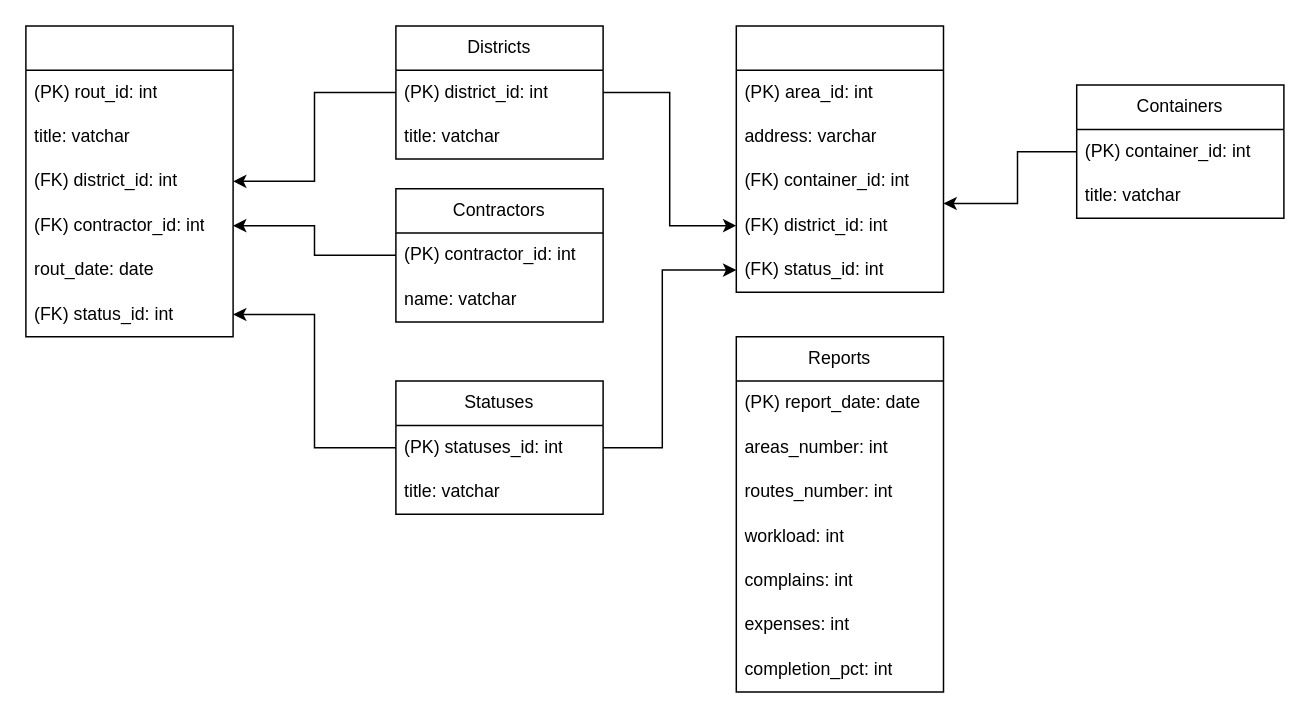
The diagram is 1310 pixels wide and 718 high, and some of its shapes have lost their labels. Here are the shapes that lost their labels. From the top down, the box of each, then its label:
(735, 24, 944, 292): Work_areas
(24, 24, 233, 337): Routes
